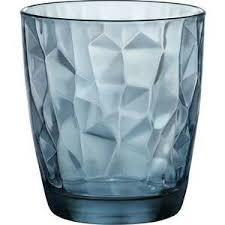glass: (11, 0, 209, 225)
